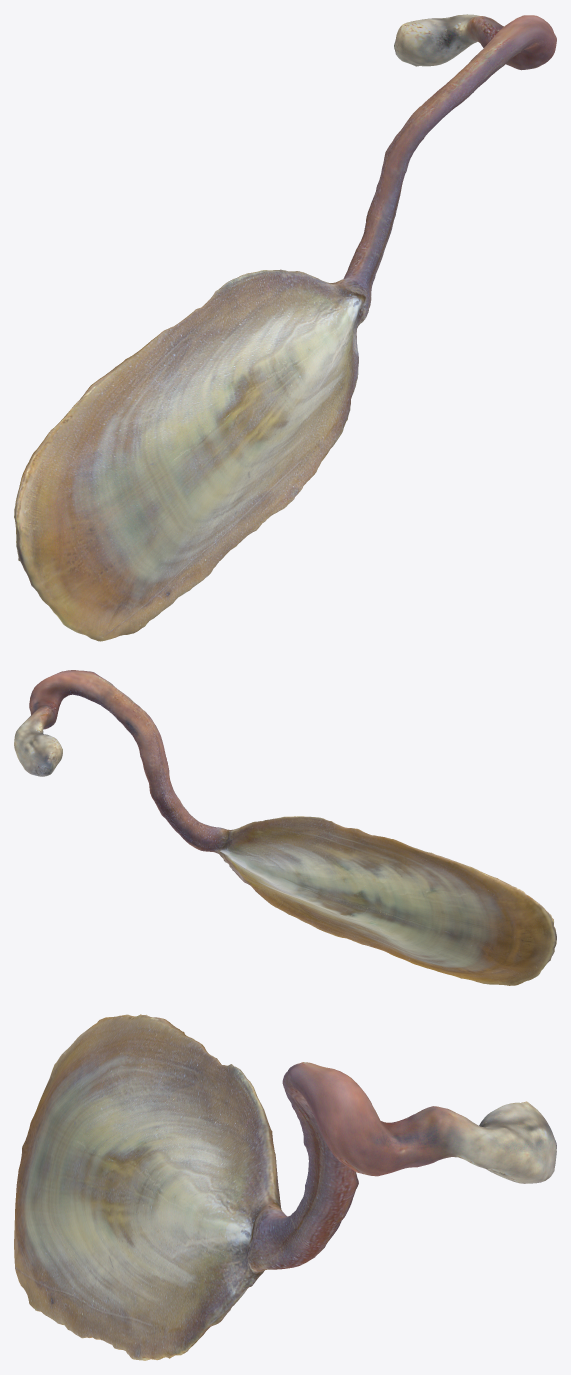
3 views of the same model, one above another, from view 1: azimuth 30°, elevation 25°; view 2: azimuth 150°, elevation 25°; view 3: azimuth 270°, elevation 25° (orthographic). The views are drawn at different scales.
Visible parts, largest first — view 1: Object_2; view 2: Object_2; view 3: Object_2.
Part boxes in pixels (box(x1,y1,x2,y2)): Object_2: box(14, 14, 556, 641); Object_2: box(14, 670, 556, 985); Object_2: box(14, 1014, 556, 1360).
Size of the model in its own units: 1.44 by 0.872 by 0.7594.
1 material, 1 textured.
